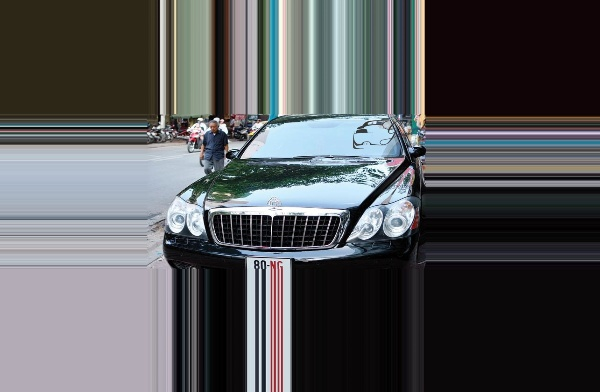plate: (245, 257, 297, 269)
